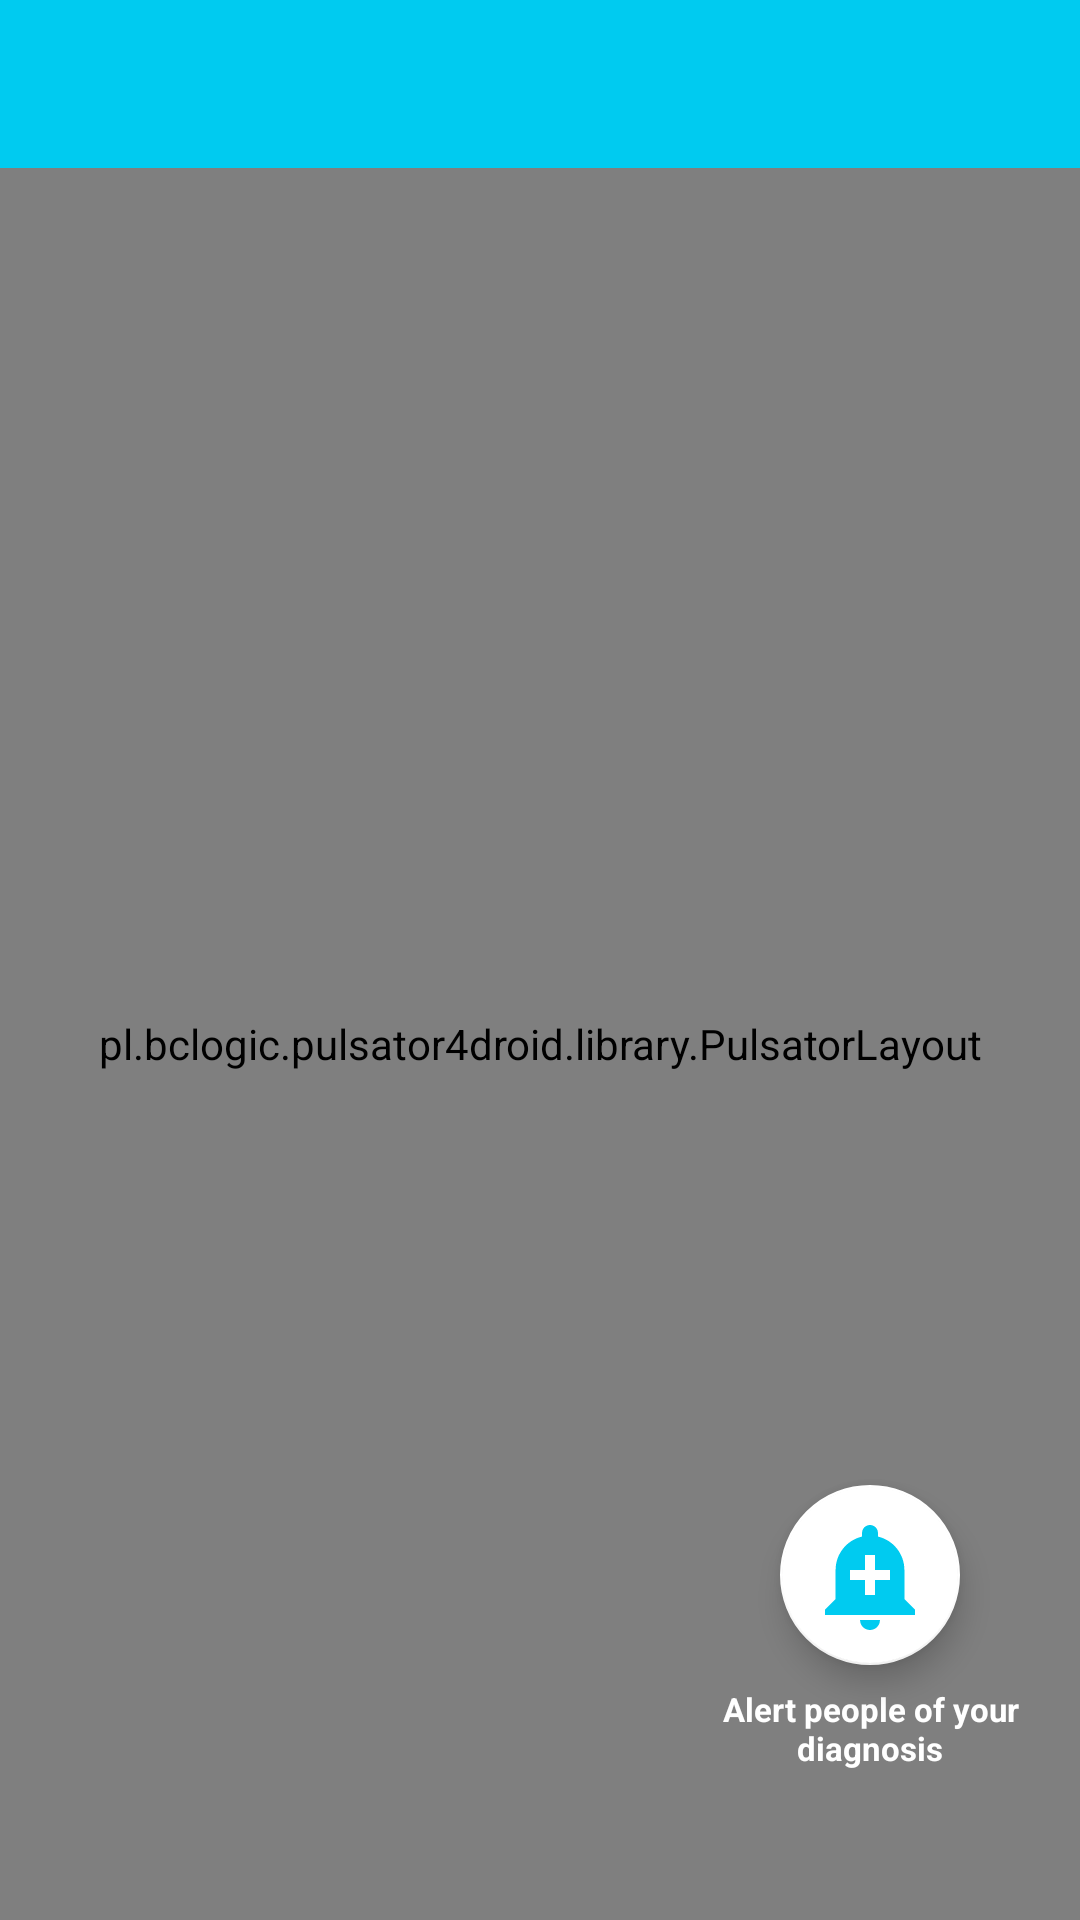

Screen size 1080 × 1920. Icon name, then its box in pixels as (x1, y1, x2, y2):
add alert: (780, 1485, 960, 1665)
